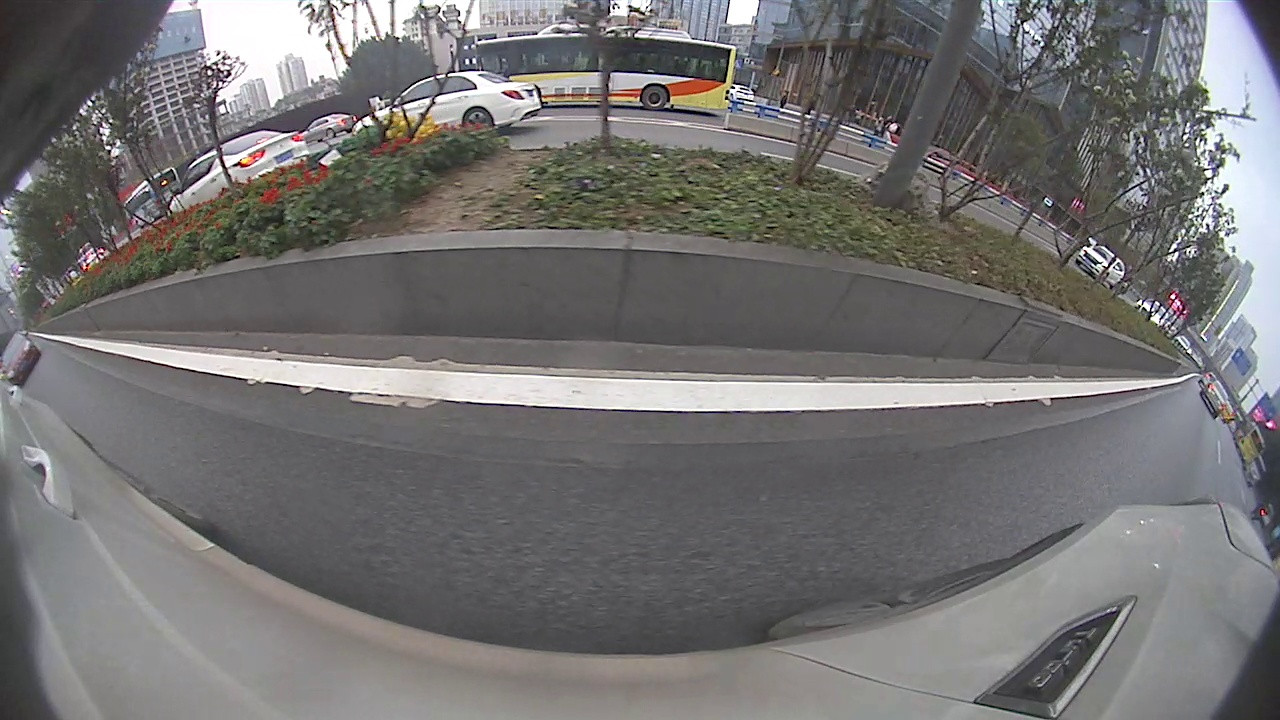bus: (471, 33, 739, 124)
car: (350, 68, 544, 156), (1, 330, 42, 388), (1200, 380, 1230, 421)
rear: (641, 84, 669, 112)
